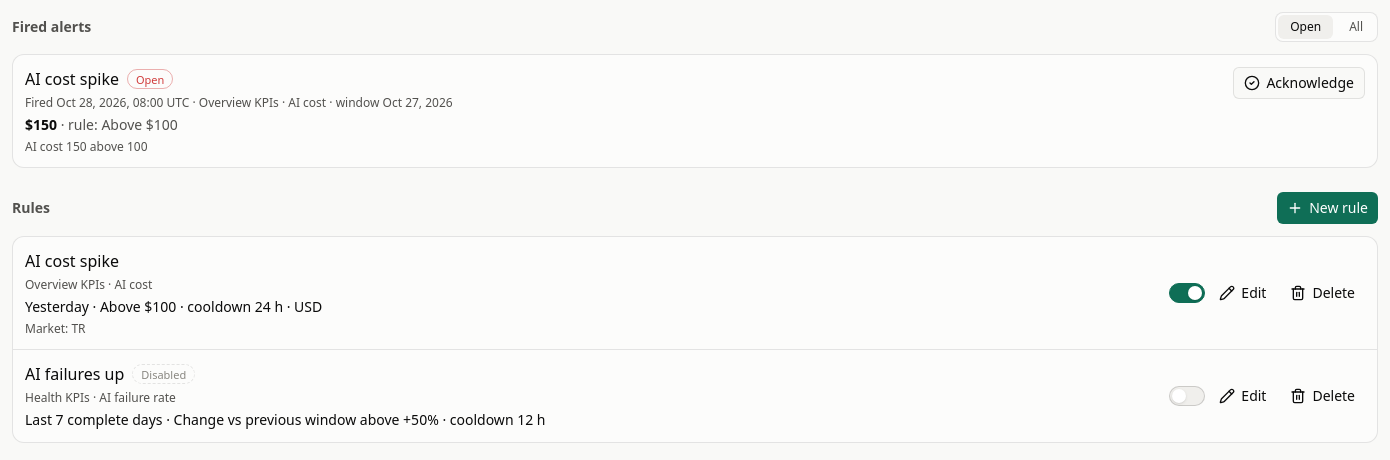
Test: Alerts page › deletes a rule only after confirming
Click the button with aria-label "Delete AI failures up".
click(1323, 396)  # box [1280,380,1365,412]
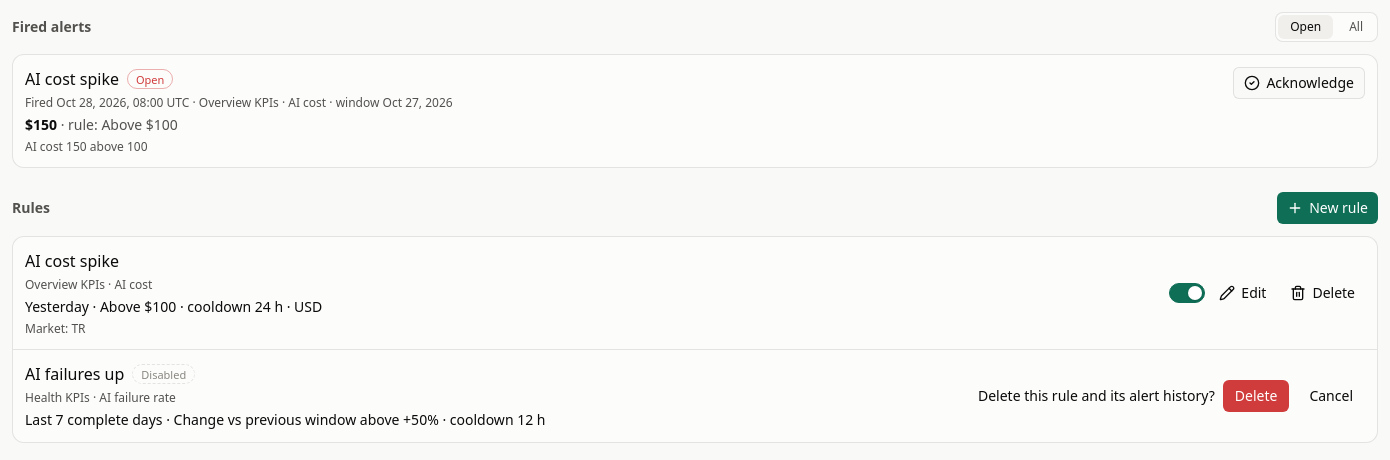
Click the button "Cancel".
click(1331, 396)  # box [1297,380,1365,412]
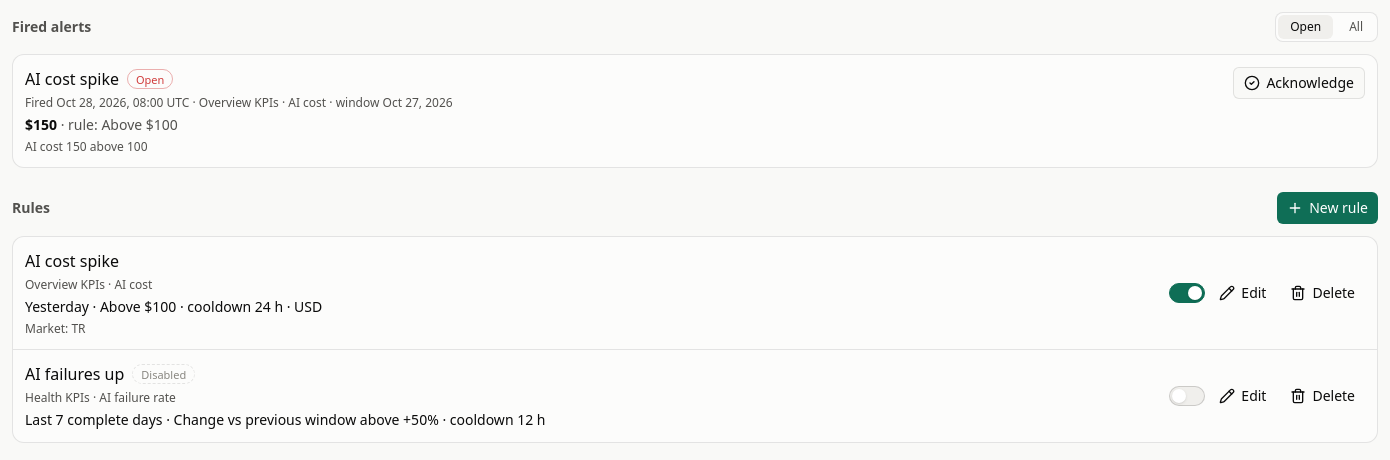
Click the button with aria-label "Delete AI failures up".
click(1323, 396)  # box [1280,380,1365,412]
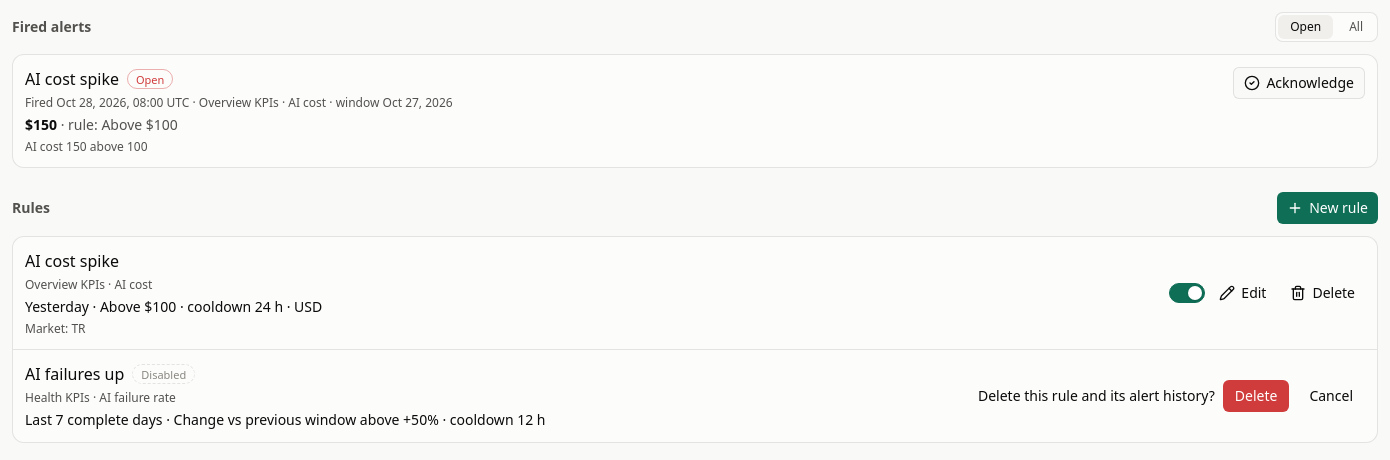
Click the button "Delete" next to "Delete this rule and its alert history?".
click(1256, 396)  # box [1223,380,1289,412]
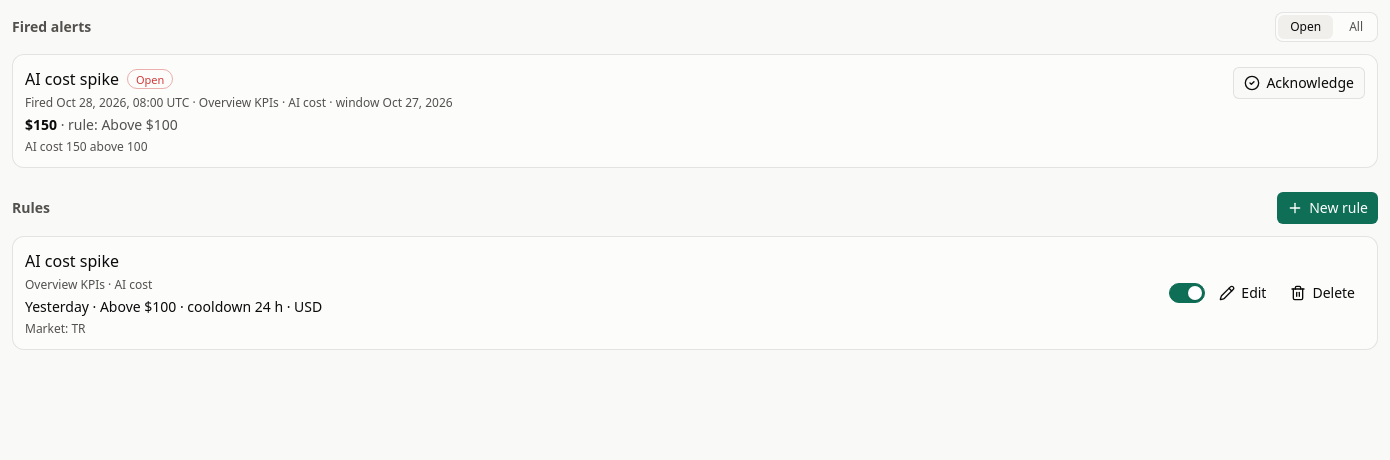
Result: the text "AI failures up" is gone
